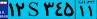character: (26, 1, 42, 19), (42, 1, 55, 19), (62, 1, 75, 18), (15, 1, 26, 18), (54, 1, 64, 18), (8, 1, 16, 19), (85, 5, 95, 19), (77, 5, 86, 17)
